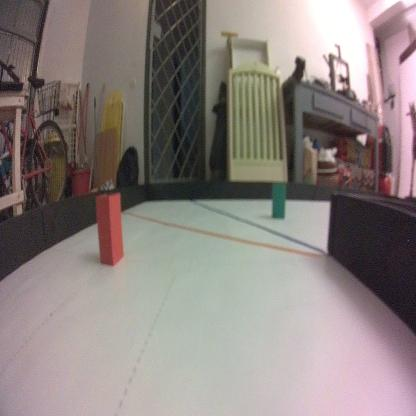green: (270, 181, 286, 220)
red: (95, 191, 124, 269)
